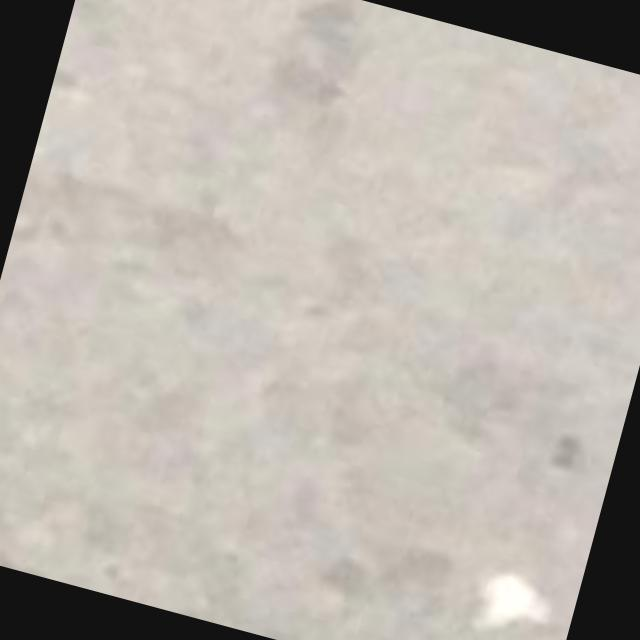peeling plaster: (473, 572, 550, 633)
